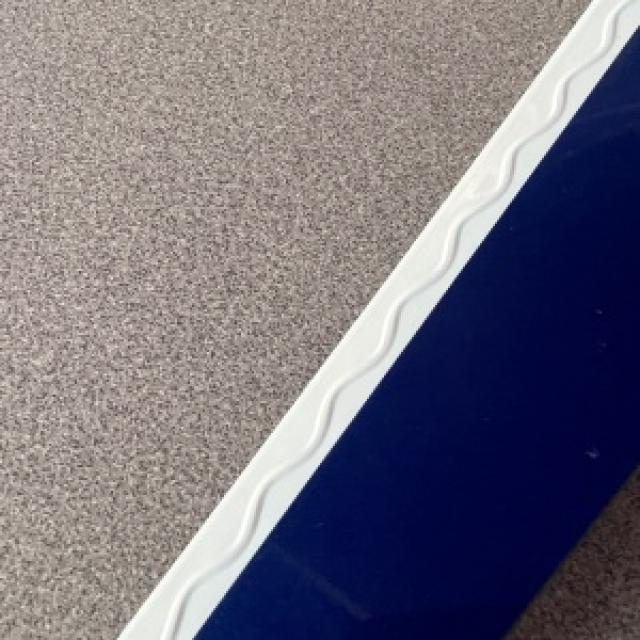healthy: (115, 0, 638, 638), (512, 478, 638, 638)
